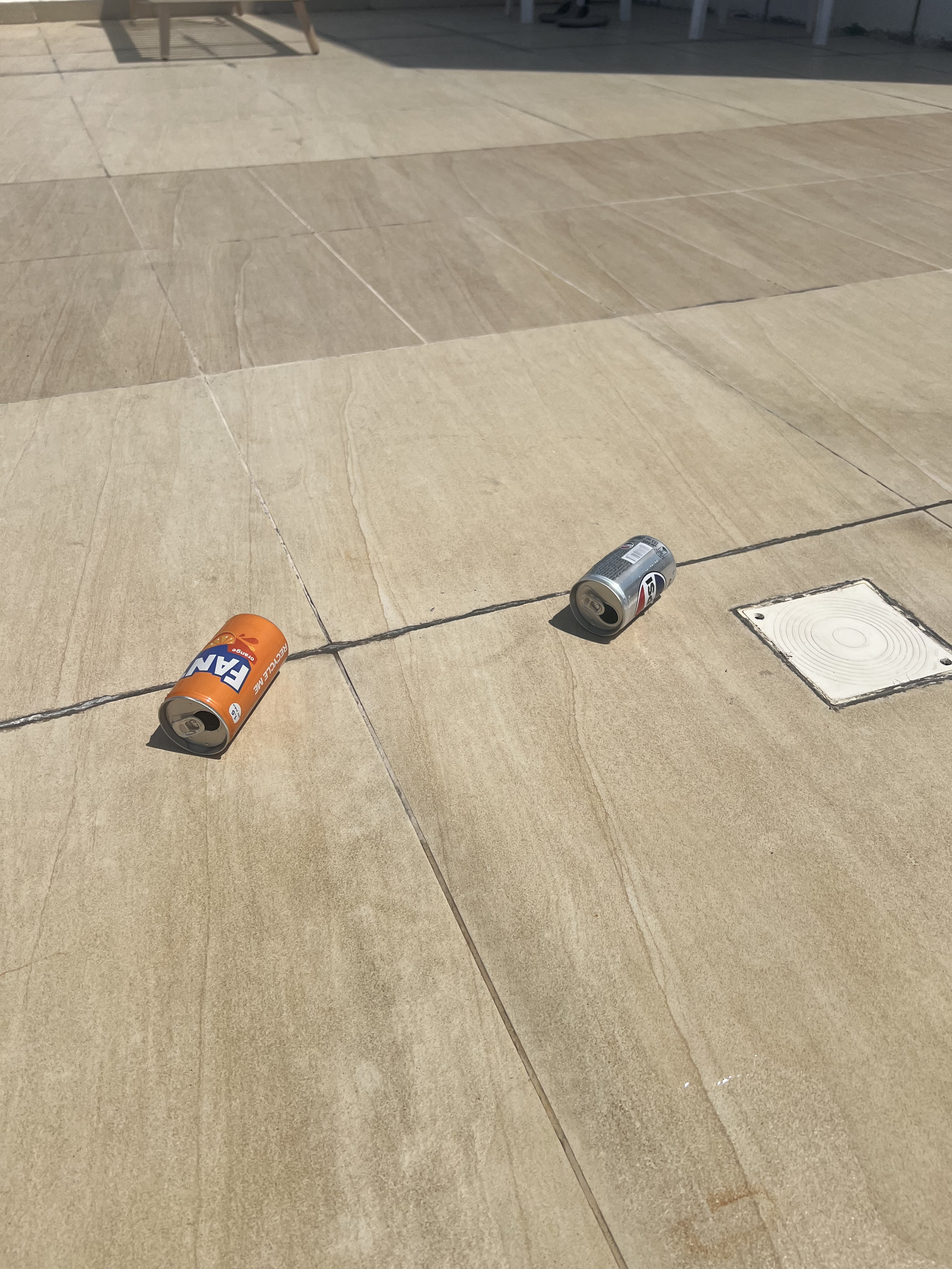debris: (153, 598, 297, 773), (565, 510, 678, 640)
